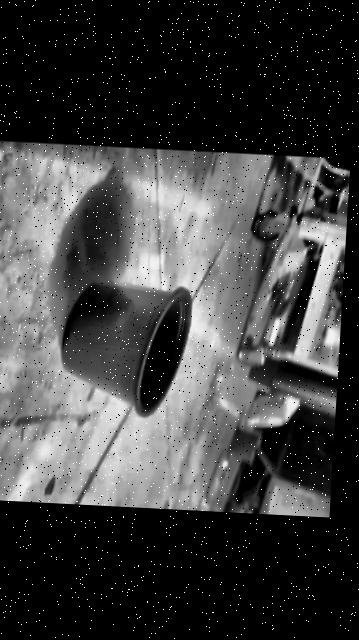pot: (57, 279, 192, 417)
